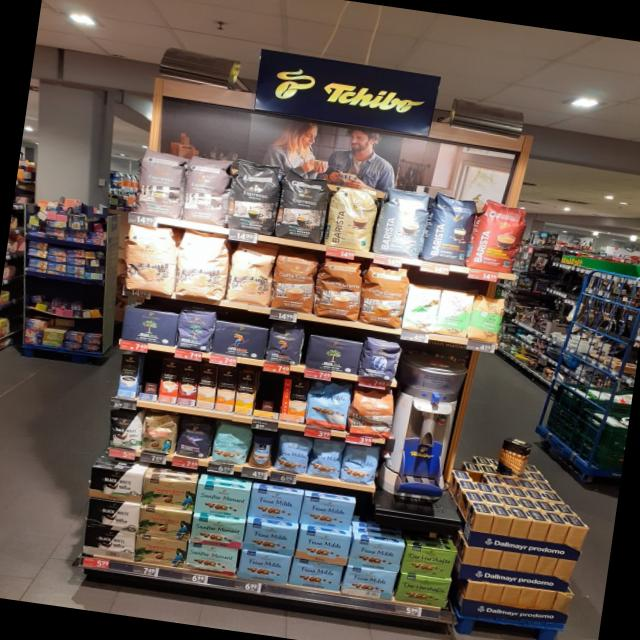AB Bohne: (360, 335, 404, 383)
Athiopien Bohne: (469, 293, 507, 346)
Athiopien Gemahlen: (402, 284, 442, 336), (436, 290, 474, 340)
BM Bohne: (175, 307, 218, 353)
BM Gemahlen: (120, 305, 180, 348), (306, 333, 364, 376)
BW Bohne: (103, 410, 144, 452)
BW Gemahlen: (86, 465, 144, 504), (84, 496, 142, 534), (80, 526, 138, 562)
Barista CB: (324, 185, 378, 254)
Barista CC: (375, 185, 430, 261)
Barista Espresso: (424, 192, 477, 268)
Barista Kolumbien: (471, 197, 530, 276)
C Fino Bohne: (176, 416, 216, 460)
CC Mild: (118, 222, 181, 296), (172, 229, 232, 302), (226, 240, 278, 308)
CC Vollmundig: (348, 386, 396, 439)
CC Vollmundig 36 Pads: (313, 256, 367, 323), (359, 262, 411, 329), (269, 248, 321, 314)
Colombia BB Bohne: (138, 410, 180, 457)
Colombia BB Gemahlen: (140, 476, 197, 512), (138, 506, 192, 542), (133, 535, 188, 569)
Empty Shelf: (254, 373, 284, 412), (139, 356, 161, 395)
Espresso Aromatisch: (132, 146, 189, 220)
Espresso Kraftig: (272, 168, 332, 245), (227, 157, 283, 237)
Espresso M Art: (180, 154, 236, 226)
FM 36 Pads: (304, 379, 354, 431)
FM Bohne: (340, 443, 380, 487), (274, 432, 312, 475), (308, 437, 344, 480)
FM Gemahlen: (242, 520, 298, 558), (236, 548, 292, 586), (248, 486, 304, 524), (296, 528, 352, 566), (300, 494, 356, 531), (342, 565, 398, 602), (289, 558, 345, 594), (350, 538, 405, 574)
FM Instant: (249, 434, 276, 470)
Herzhatfe Mundig: (396, 572, 451, 610), (402, 544, 458, 580)
LG Bohne: (265, 322, 306, 367)
LG Gemahlen: (211, 318, 269, 361)
SM Bohne: (212, 421, 254, 466)
SM Gemahlen: (194, 483, 251, 520), (189, 514, 246, 550), (184, 542, 240, 576)
Simo CCMild bigpack: (233, 371, 257, 416)
Simo CCVollmundig: (278, 378, 309, 423)
Simo CCVollmundig bigpack: (214, 367, 238, 412)
Simo Decaff: (194, 366, 219, 410)
Simo Es Brazil: (156, 358, 182, 405)
Simo Es Caramel: (174, 362, 200, 407)
Simo Es Vanilla: (115, 354, 142, 398)
